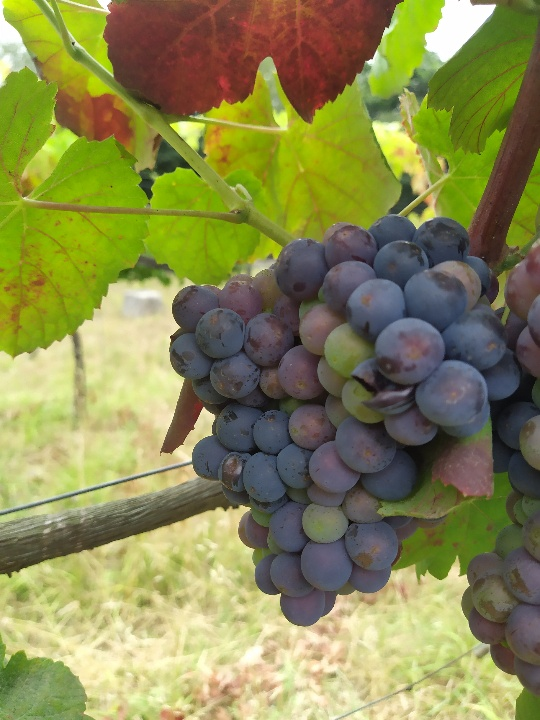grape: (162, 210, 527, 631)
